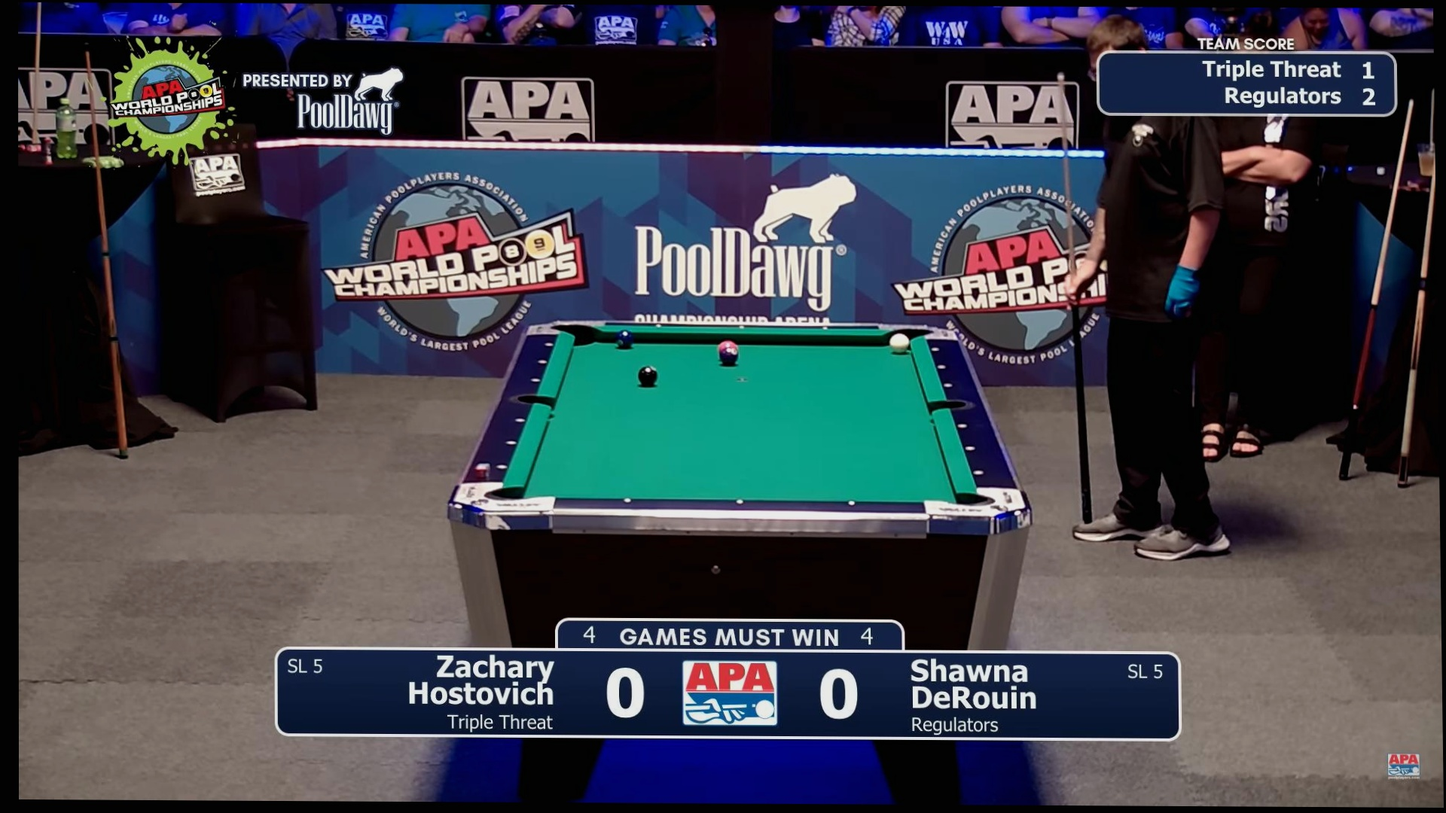Black: (515, 416, 526, 424), (544, 341, 555, 349), (930, 345, 941, 353), (935, 363, 946, 371), (957, 422, 968, 430), (734, 498, 745, 506), (622, 496, 633, 504), (820, 324, 830, 332), (965, 445, 975, 453), (973, 468, 983, 476), (847, 499, 857, 507), (497, 463, 508, 470), (530, 376, 541, 383), (736, 323, 747, 330), (942, 382, 953, 389), (507, 439, 517, 446), (538, 358, 548, 365), (653, 322, 663, 329)
Cue: (720, 347, 739, 366), (616, 330, 634, 348), (718, 340, 739, 353)
Solid: (638, 366, 658, 387)
Stripe: (889, 333, 910, 353)
